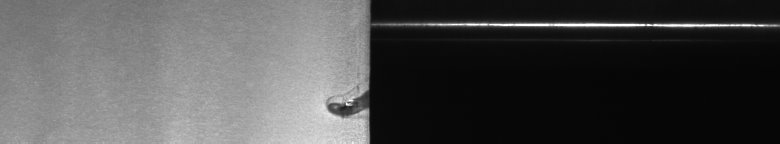hb: (320, 80, 360, 128)
